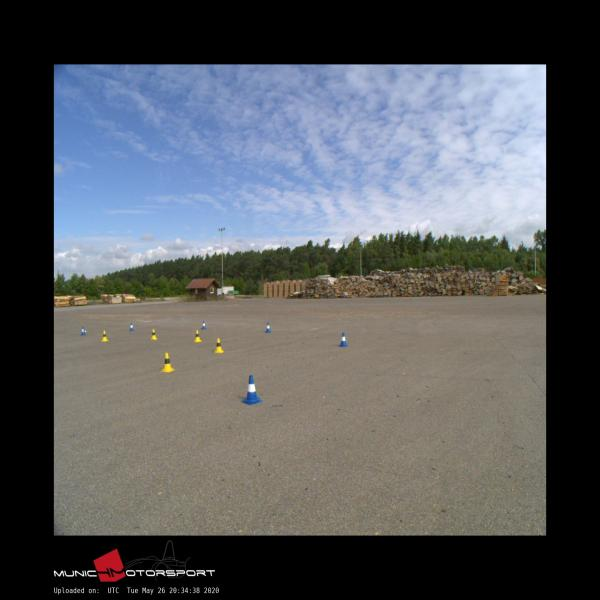blue_cone: (240, 375, 262, 404), (339, 332, 347, 346), (264, 323, 270, 332), (80, 326, 86, 335), (201, 320, 206, 329), (129, 322, 134, 331)
yellow_cone: (160, 351, 174, 371), (214, 338, 223, 352), (150, 328, 157, 340), (194, 330, 201, 341), (101, 331, 108, 340)
